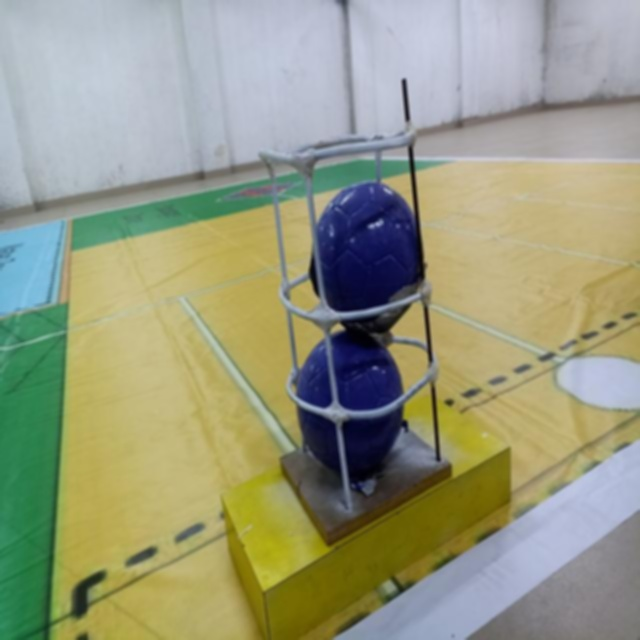purple_ball: (310, 177, 422, 331), (296, 330, 412, 478)
silo: (265, 113, 442, 521)
